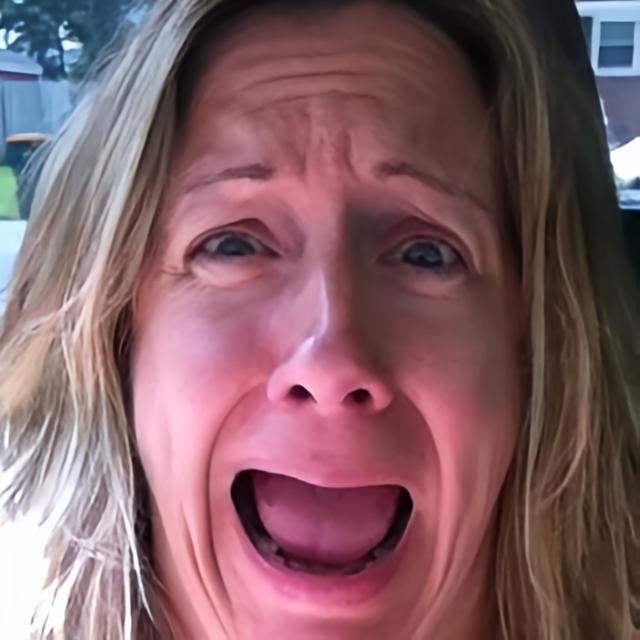fear: (118, 1, 530, 640)
